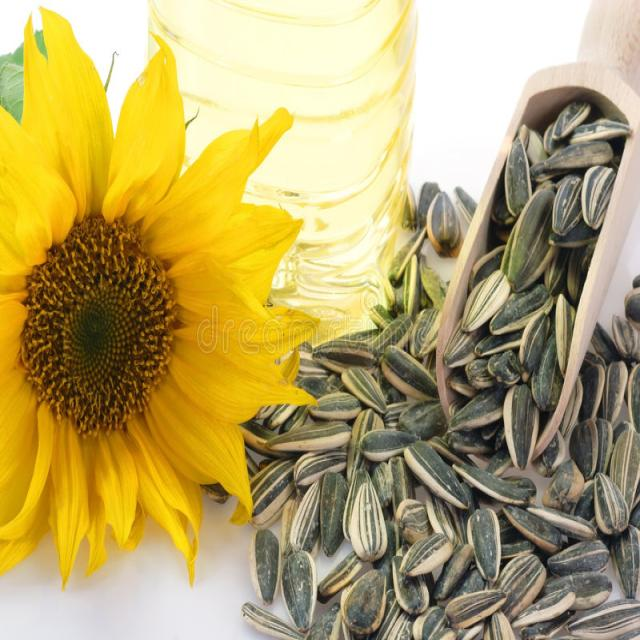sunflower: (0, 0, 314, 595)
